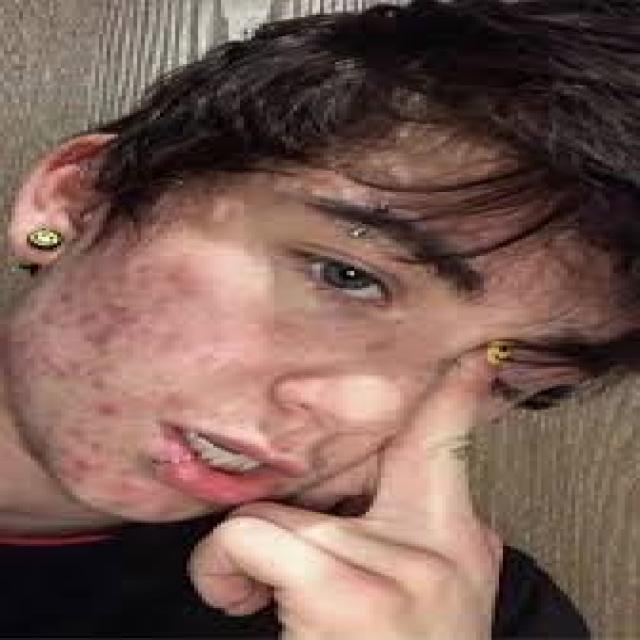Acne: (20, 256, 202, 465)
